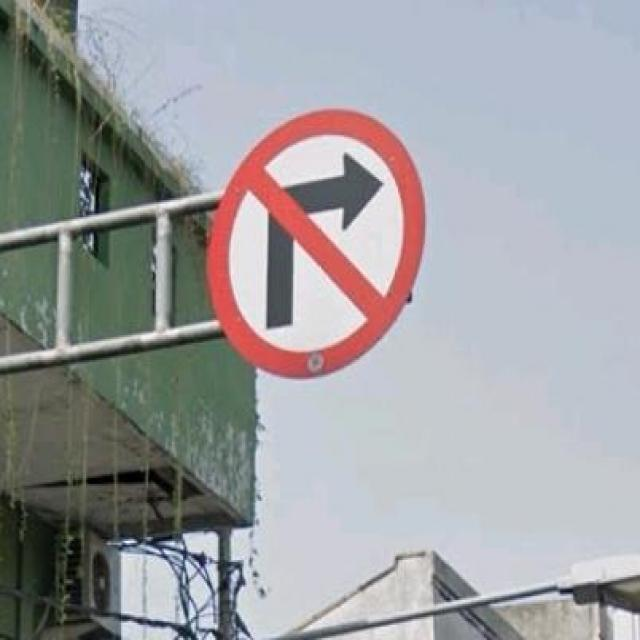traffic sign: (210, 113, 426, 378)
